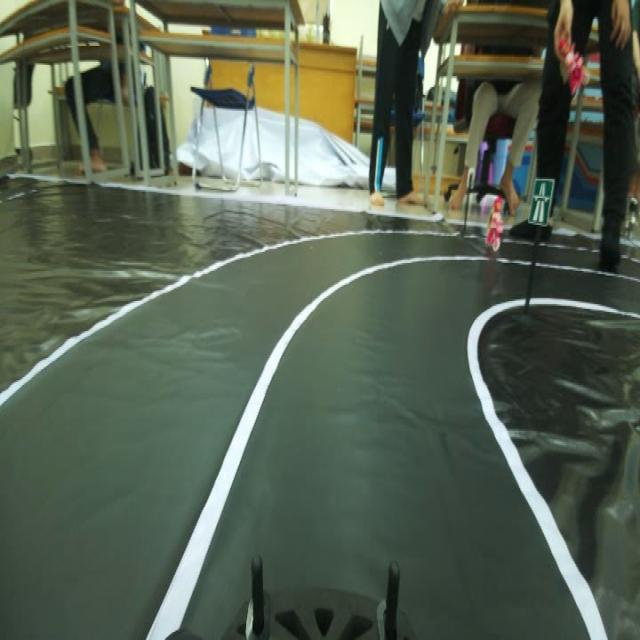highway_entry: (528, 170, 556, 228)
